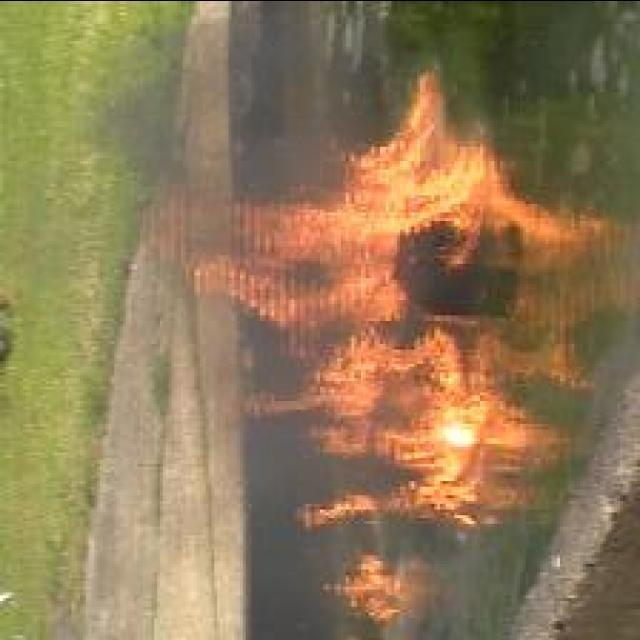Fire: (190, 72, 496, 524), (323, 557, 403, 617)
